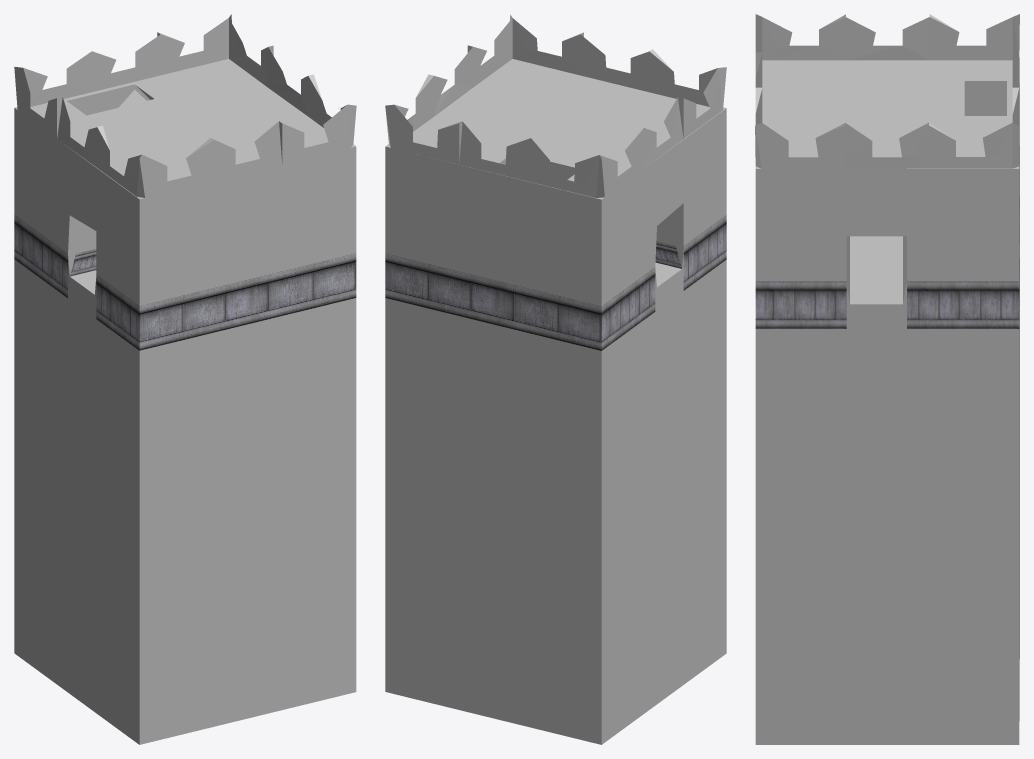
Rendered from LightTowerWall2.fbx.
The picture shows the model from 3 angles, left to right: view 1: azimuth 30°, elevation 25°; view 2: azimuth 150°, elevation 25°; view 3: azimuth 270°, elevation 25°; orthographic projection. The views are drawn at different scales.
Visible parts, largest first — view 1: TowerWall2; view 2: TowerWall2; view 3: TowerWall2.
Part boxes in pixels (x1,y1,x2,y2): TowerWall2: (14, 14, 356, 744); TowerWall2: (385, 14, 726, 744); TowerWall2: (755, 14, 1019, 744).
Size of the model in its own units: 433 by 1118 by 434.
